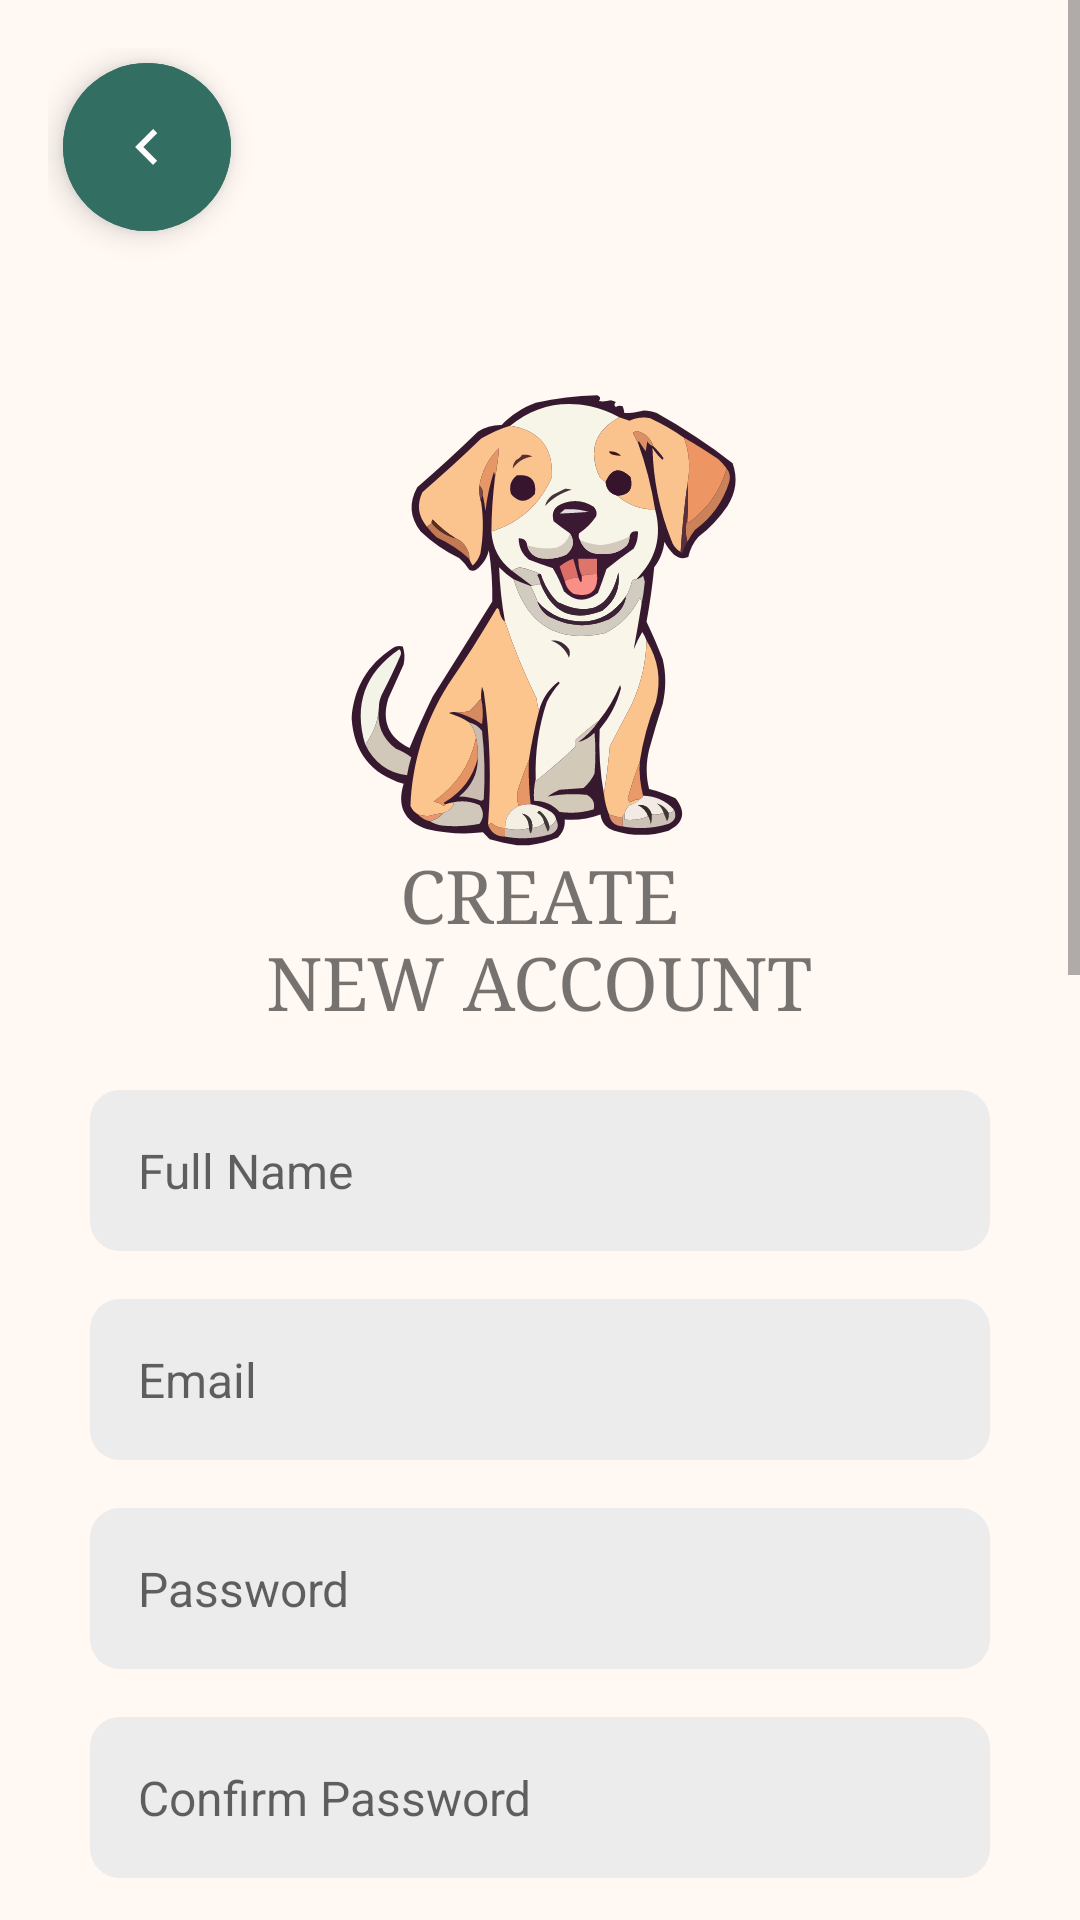

Icon bounding boxes for this 1080px x 1920px phone screenshot, format (x1, y1, x2, y2):
back arrow: (63, 63, 231, 231)
